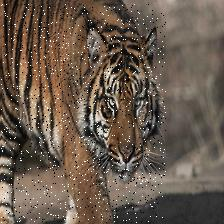tiger: (0, 5, 165, 224)
